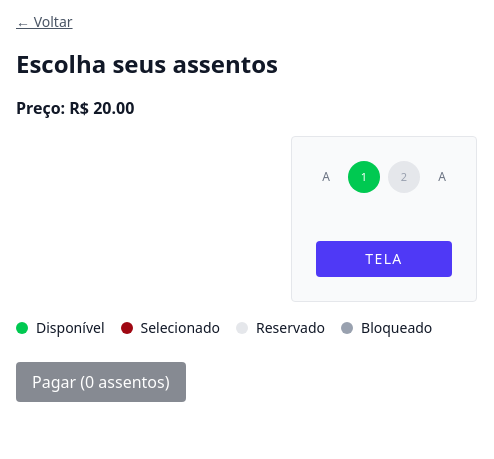
Test: SessionSeatsPage (integration) › should show an error and not select the seat when another user already holds it
// WHEN the user clicks the seat
Click the button titled "A1 — Disponível": (364, 177) [348,161,380,193]
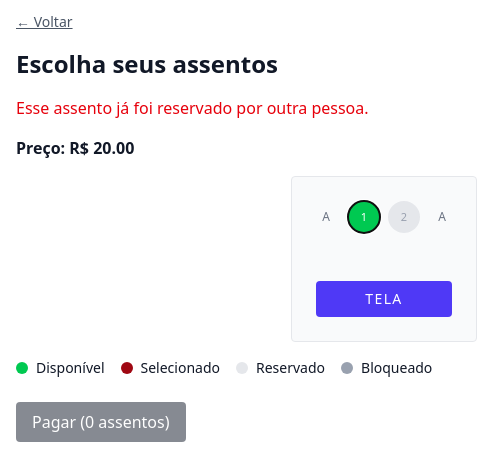
Expected: the button titled "A1 — Disponível" is shown, [348,201,380,233]
Expected: the message reads "Esse assento já foi reservado por outra pessoa.", [16,97,369,119]
